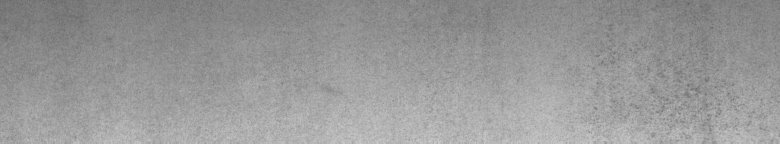ib: (594, 44, 747, 130)
